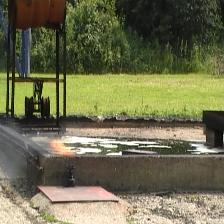fire: (51, 140, 75, 155)
